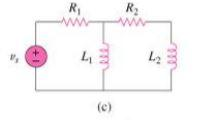inductor: (164, 37, 180, 75), (96, 40, 112, 74)
